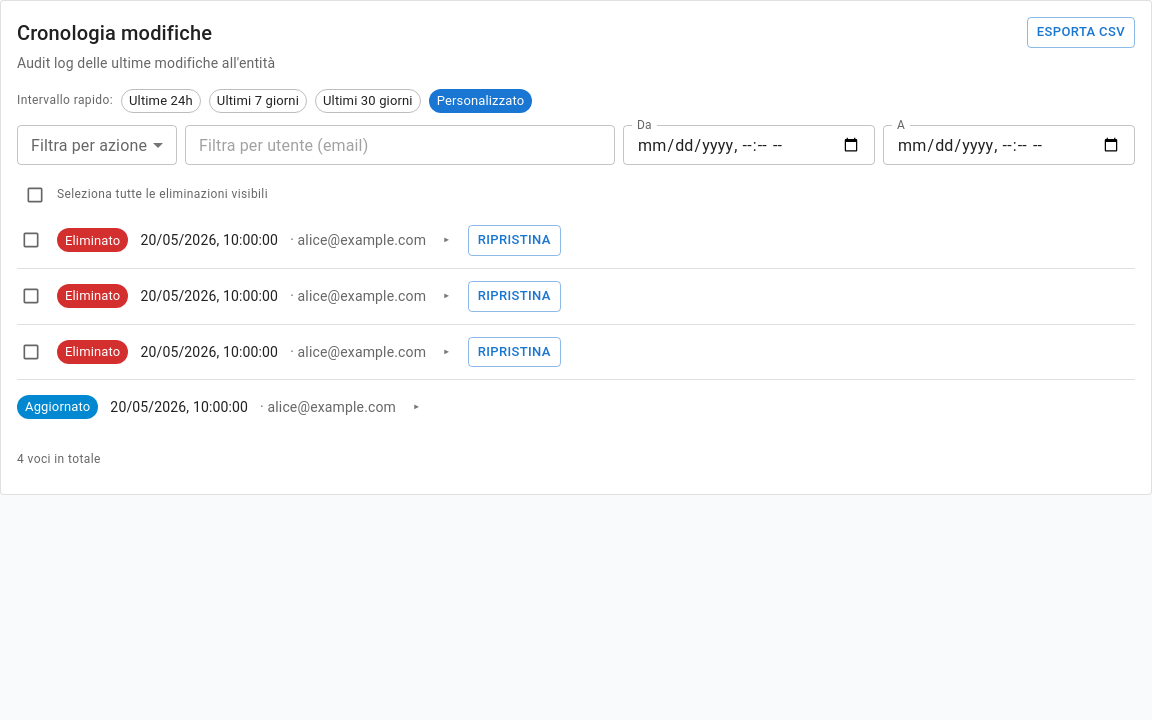
Test case: AuditHistoryPanel › master checkbox selects all visible DELETE entries
Expected: the text "Eliminato" is shown 3 times, [65, 233, 120, 248]; [65, 288, 120, 303]; [65, 344, 120, 359]
Click the checkbox named "Seleziona tutte le eliminazioni visibili". click: [35, 195]
box: [25, 185, 45, 205]
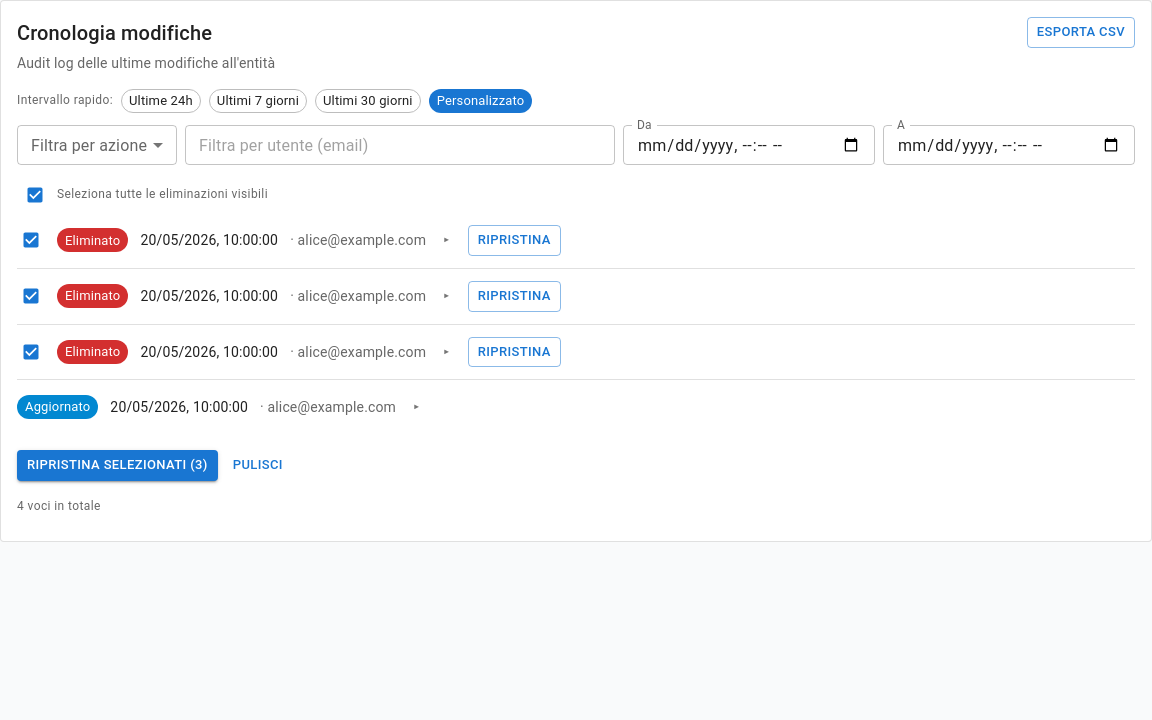
Expected: the button "Ripristina selezionati (3)" is shown, [17, 450, 218, 481]
